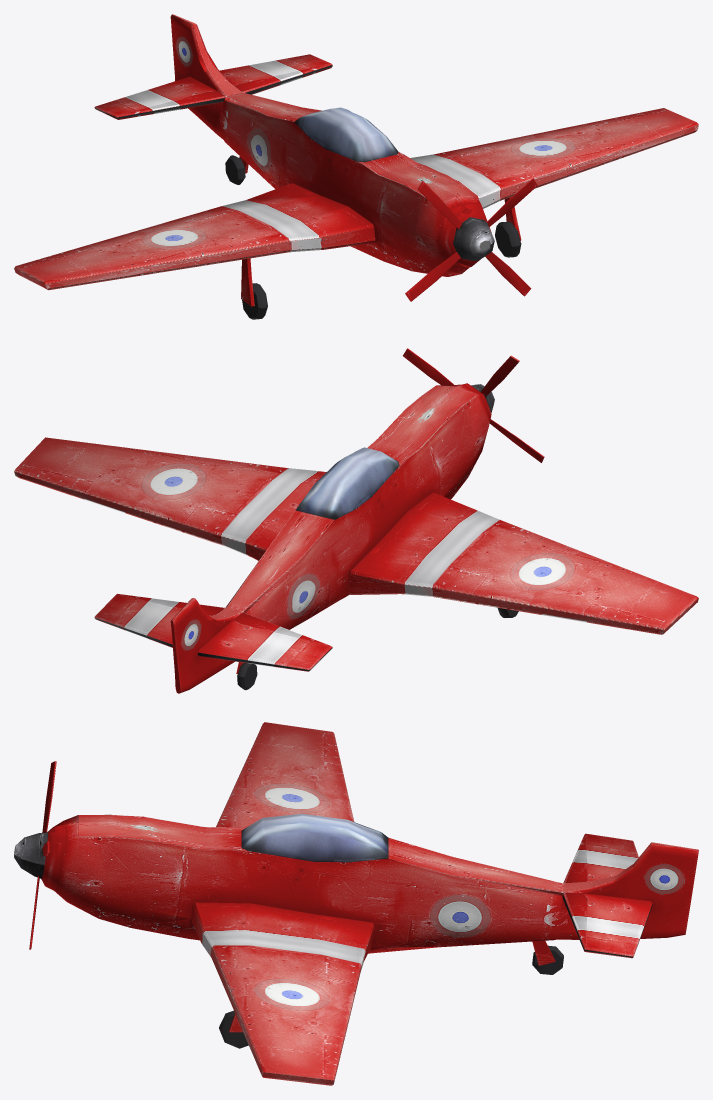
3 renders of one model, top to bottom at view 1: azimuth 30°, elevation 25°; view 2: azimuth 150°, elevation 25°; view 3: azimuth 270°, elevation 25°, orthographic. The views are drawn at different scales.
Visible parts, largest first — view 1: Plane_silv, Plane_sil0; view 2: Plane_silv, Plane_sil0; view 3: Plane_silv, Plane_sil0.
Part boxes in pixels (<box>): Plane_silv: <box>14,14,698,319</box>; Plane_sil0: <box>405,178,537,301</box>; Plane_silv: <box>14,383,698,693</box>; Plane_sil0: <box>403,348,544,462</box>; Plane_silv: <box>41,722,698,1085</box>; Plane_sil0: <box>14,761,56,949</box>.
Size of the model in its own units: 102 by 26.92 by 85.15.
1 material, 1 textured.
